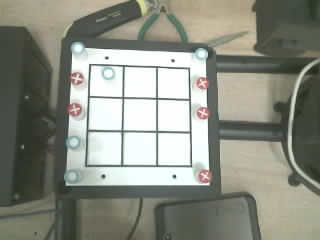blue circle: (64, 169, 80, 183), (66, 136, 80, 149), (102, 67, 115, 80), (194, 48, 208, 60), (71, 42, 84, 54)
board: (65, 42, 211, 185)
cells: (87, 132, 120, 164), (88, 98, 122, 129), (158, 133, 190, 165), (123, 133, 155, 165), (89, 65, 122, 96), (124, 99, 155, 130), (158, 100, 189, 131), (158, 68, 189, 98), (124, 67, 155, 97)
grid: (85, 64, 191, 166)
red cross: (70, 72, 84, 85), (196, 107, 210, 120), (67, 103, 81, 116), (198, 170, 212, 183), (196, 77, 208, 89)
